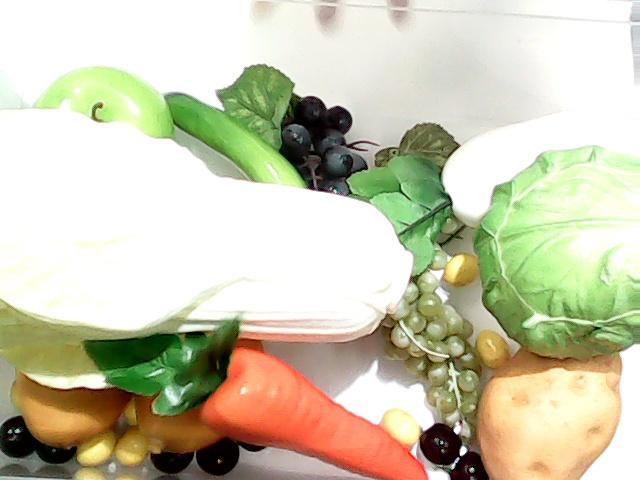apple: (27, 59, 173, 141)
cabbage: (478, 139, 640, 365)
carrot: (84, 312, 430, 480)
grape: (402, 270, 480, 466), (284, 82, 360, 193)
lemon: (122, 306, 286, 454)
mango: (16, 368, 132, 450)
napa cabbage: (0, 106, 420, 380), (1, 129, 389, 355)
pepper: (160, 88, 310, 192)
potato: (474, 342, 624, 478)
radish: (347, 96, 640, 276)
